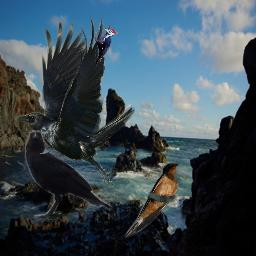Crow: (15, 15, 135, 189), (24, 130, 112, 218)
Swallow: (122, 161, 181, 238)
Woodpecker: (95, 28, 118, 67)
